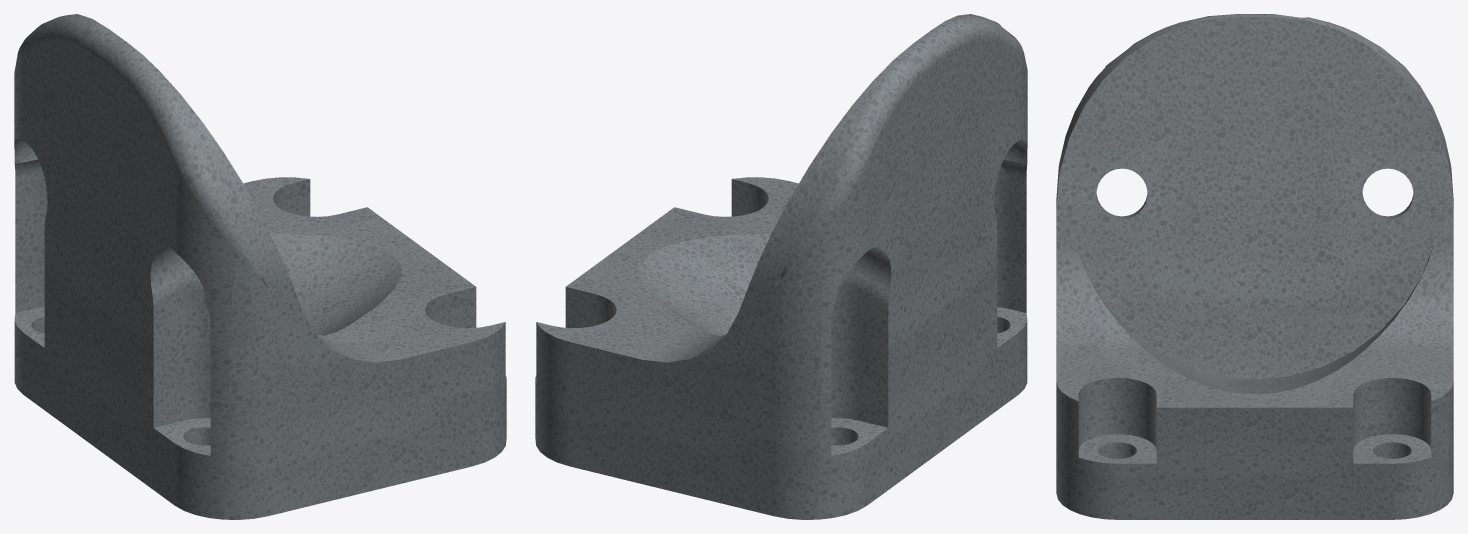
The model's file is dg5f_link_tip_render.glb.
The picture shows the model from 3 angles, left to right: view 1: azimuth 30°, elevation 25°; view 2: azimuth 150°, elevation 25°; view 3: azimuth 270°, elevation 25°; orthographic projection. The views are drawn at different scales.
Parts seen in each view (by area): view 1: dg5f_link_tip; view 2: dg5f_link_tip; view 3: dg5f_link_tip.
Boxes of the visible parts, x1,y1,x2,y2 form: dg5f_link_tip: (14,14,506,519); dg5f_link_tip: (535,14,1027,519); dg5f_link_tip: (1056,14,1453,519).
Bounding box in the file's own units: 0.019 × 0.023 × 0.0224.
Materials: 1 (1 with a texture image).
